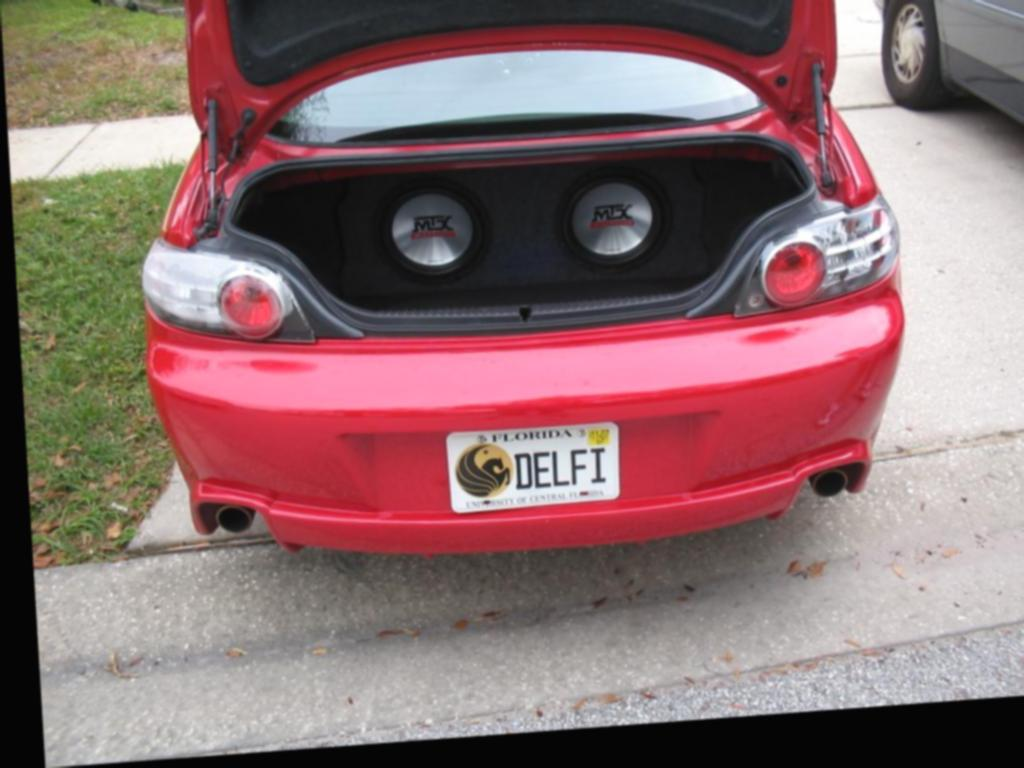License_Plate: (436, 409, 636, 526)
